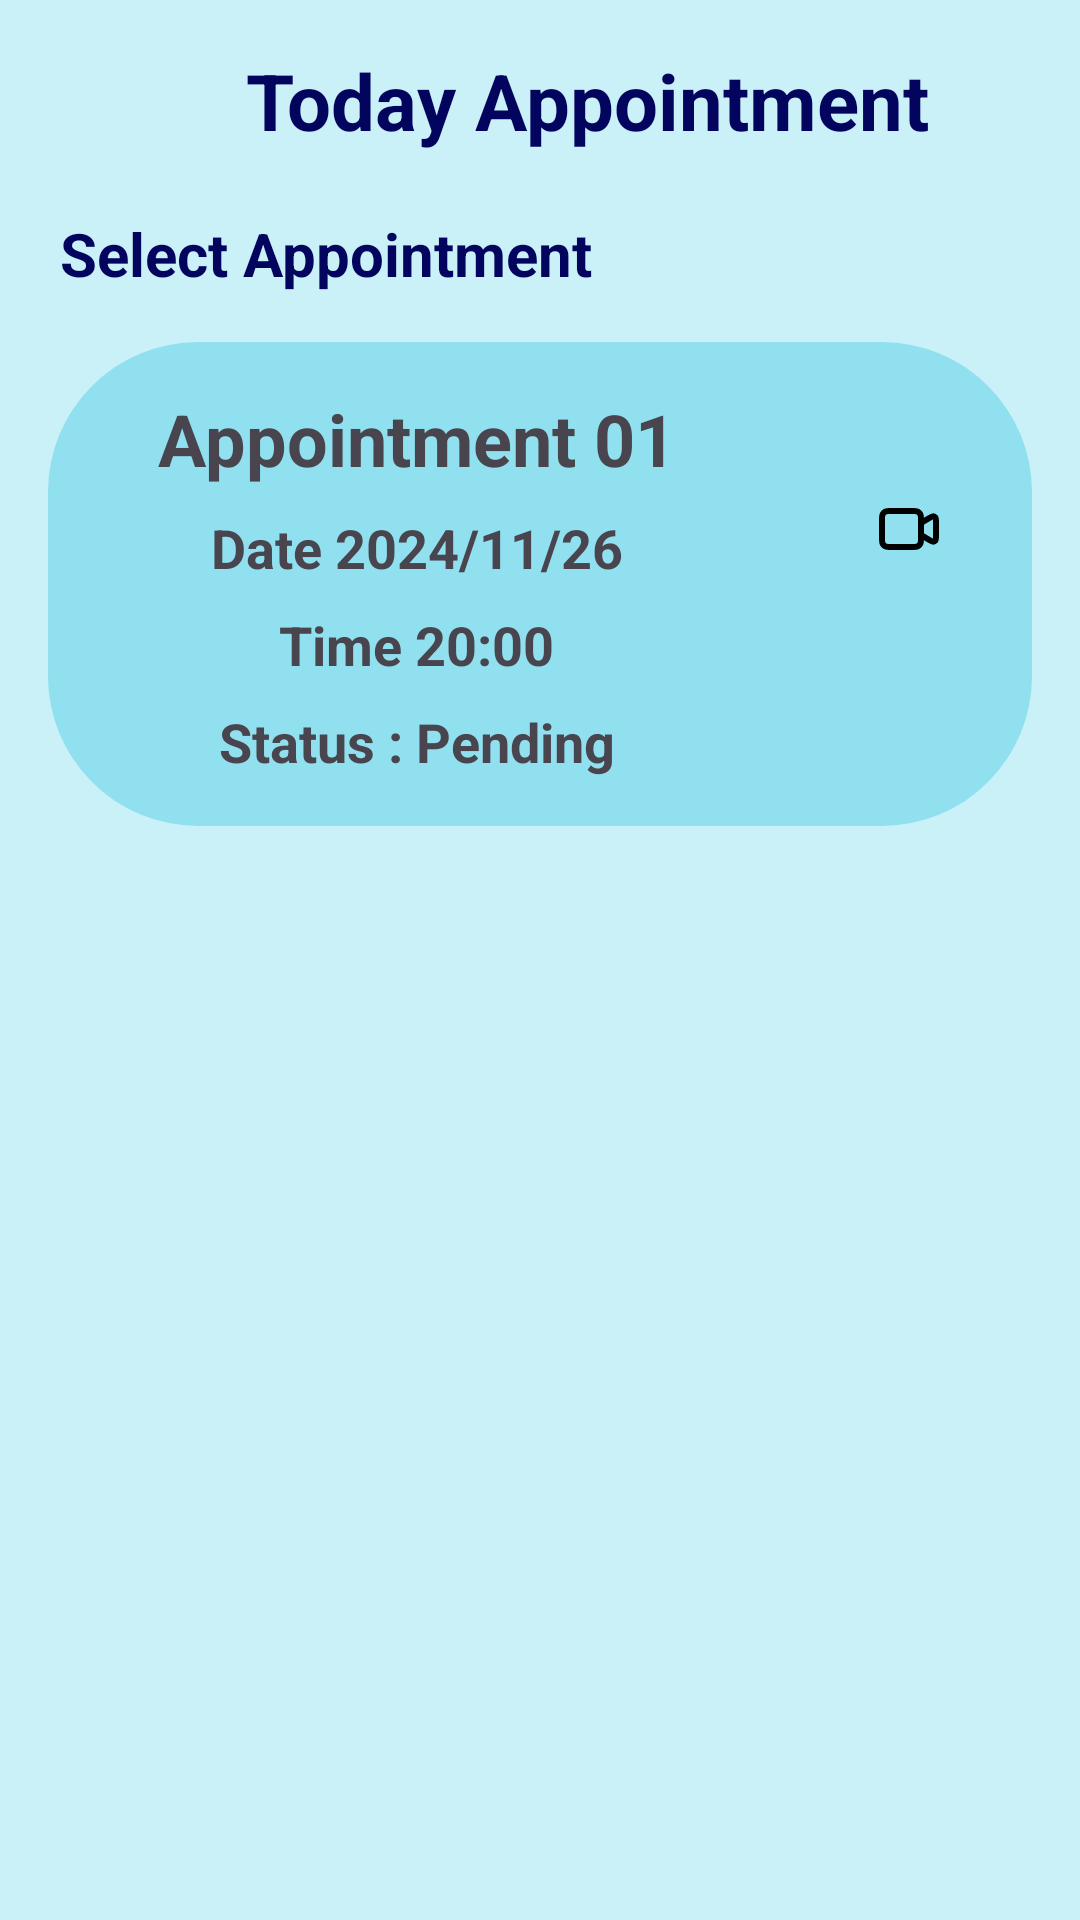

Where icons sit on this 1080*1920 app screen, as [x1=x1, y1=y1, x2=x2, y2=y2]:
video: [x1=879, y1=508, x2=939, y2=550]
